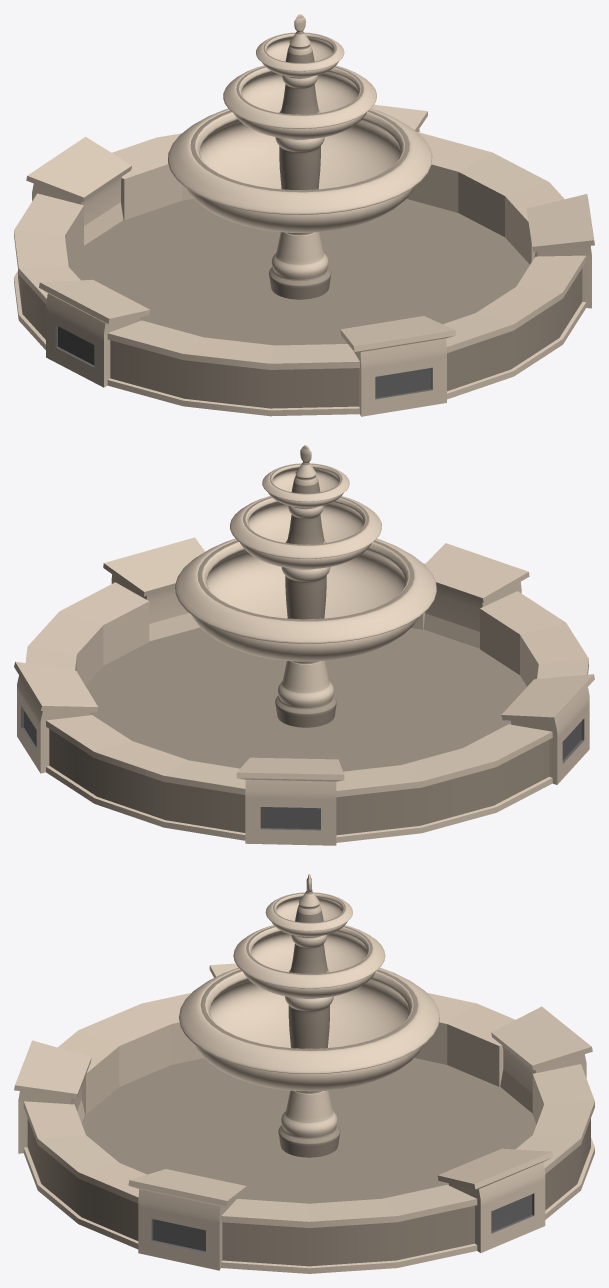
The model's file is Fountain.fbx.
3 views of the same model, one above another, from view 1: azimuth 30°, elevation 25°; view 2: azimuth 150°, elevation 25°; view 3: azimuth 270°, elevation 25° (orthographic).
Parts seen in each view (by area): view 1: pDisc3, pCylinder115; view 2: pDisc3, pCylinder115; view 3: pDisc3, pCylinder115.
Part boxes in pixels (x1,y1,x2,y2): pDisc3: (14, 104, 594, 416); pCylinder115: (168, 14, 432, 299); pDisc3: (14, 537, 594, 845); pCylinder115: (175, 445, 436, 727); pDisc3: (14, 963, 594, 1273); pCylinder115: (178, 874, 439, 1157).
Size of the model in its own units: 20.08 by 10.67 by 20.13.
